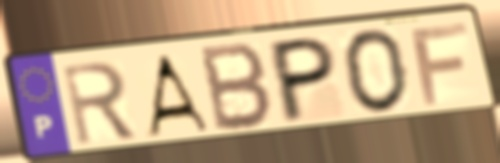A: (142, 52, 213, 139)
B: (198, 40, 275, 135)
F: (407, 19, 472, 108)
O: (340, 26, 412, 116)
P: (270, 34, 339, 127)
R: (58, 58, 141, 149)
